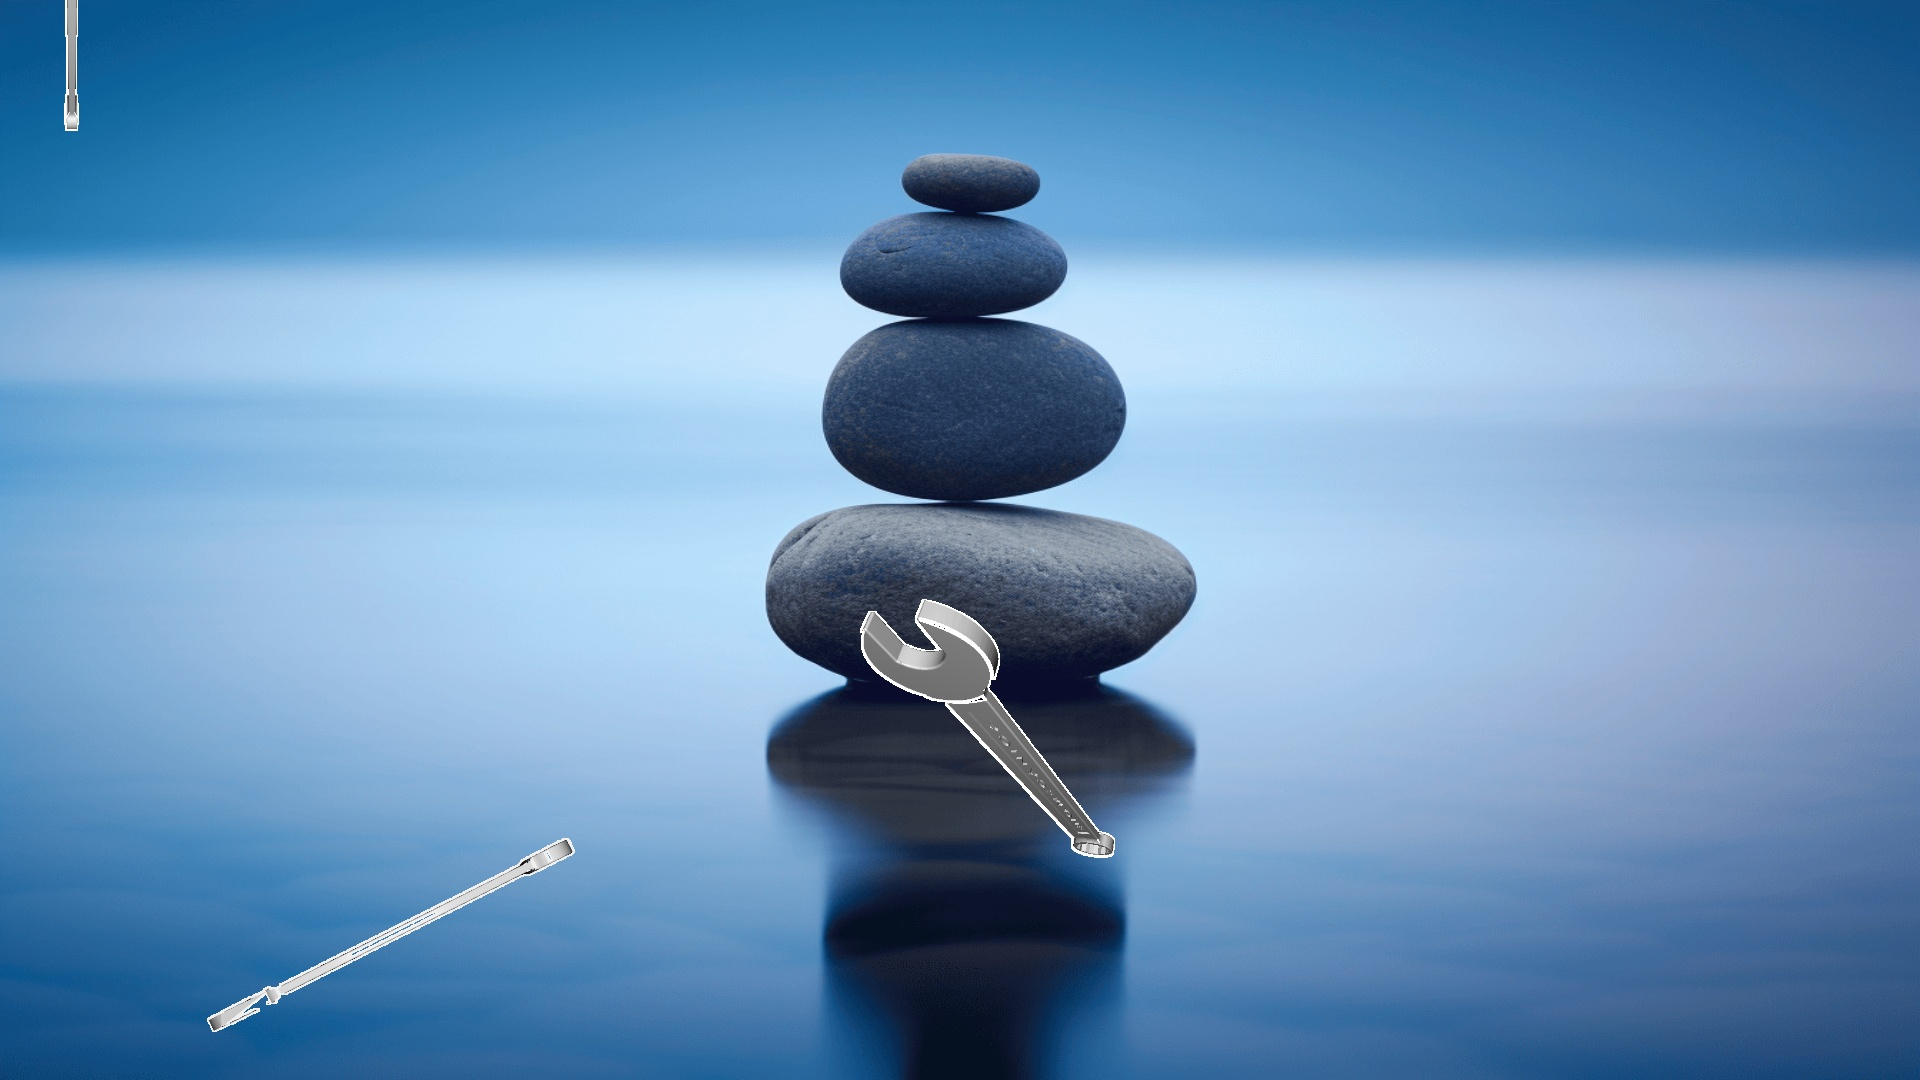Mixed Key: (207, 837, 574, 1031), (860, 599, 1114, 857), (65, 0, 78, 131)
